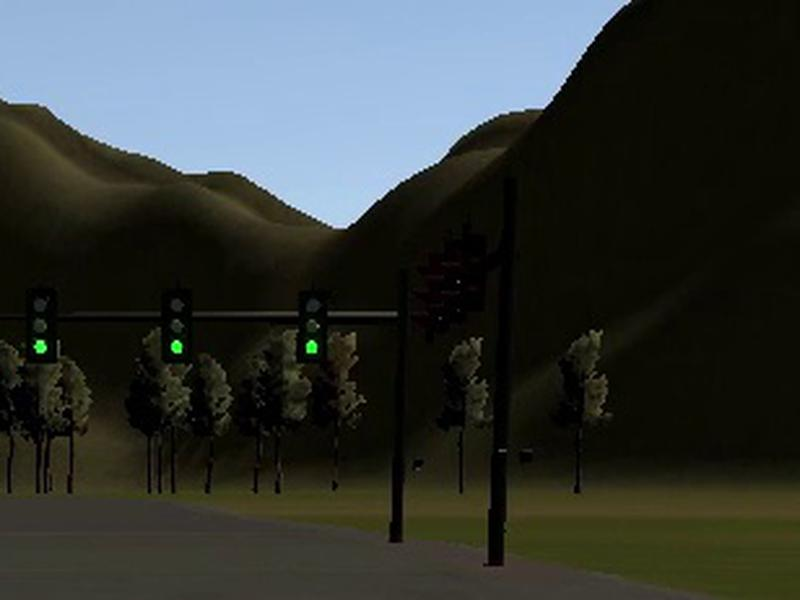Green: (25, 288, 58, 363), (161, 288, 192, 363), (299, 291, 329, 364)
